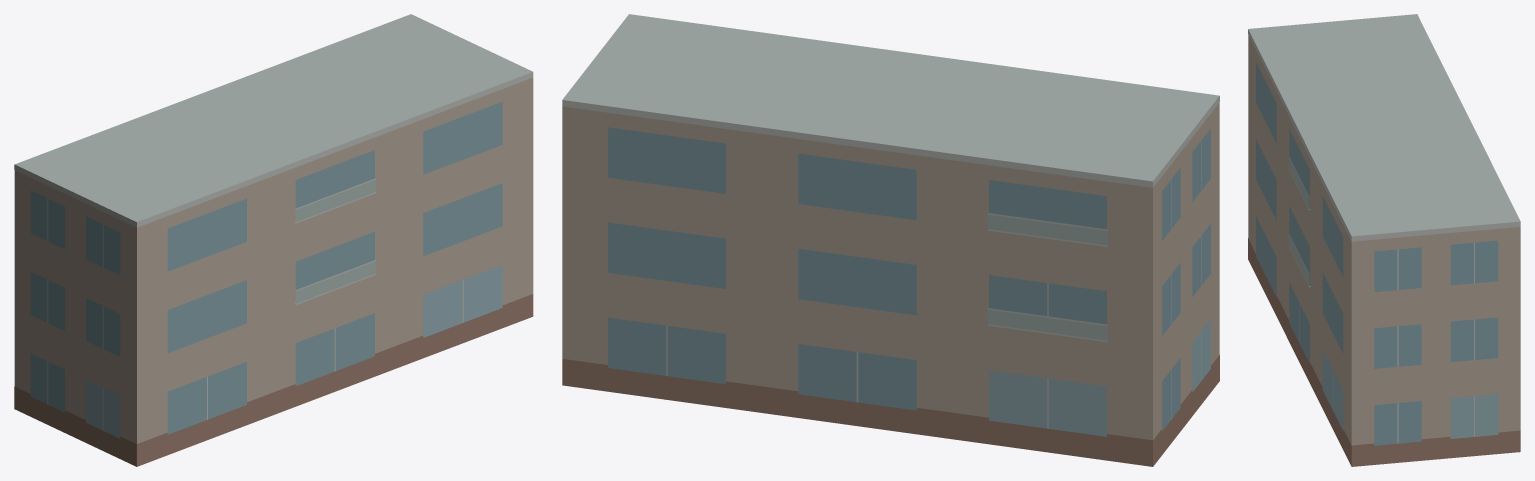
Rendered from survey-upis-32840752.glb.
The picture shows the model from 3 angles, left to right: view 1: azimuth 30°, elevation 25°; view 2: azimuth 150°, elevation 25°; view 3: azimuth 270°, elevation 25°; orthographic projection. The views are drawn at different scales.
Parts seen in each view (by area): view 1: survey-upis-32840752.tmp; view 2: survey-upis-32840752.tmp; view 3: survey-upis-32840752.tmp.
Part boxes in pixels (box(x1,y1,x2,y2)): survey-upis-32840752.tmp: box(14, 14, 533, 466); survey-upis-32840752.tmp: box(562, 14, 1219, 466); survey-upis-32840752.tmp: box(1248, 14, 1520, 466).
Size of the model in its own units: 22.36 by 10.8 by 11.59.
